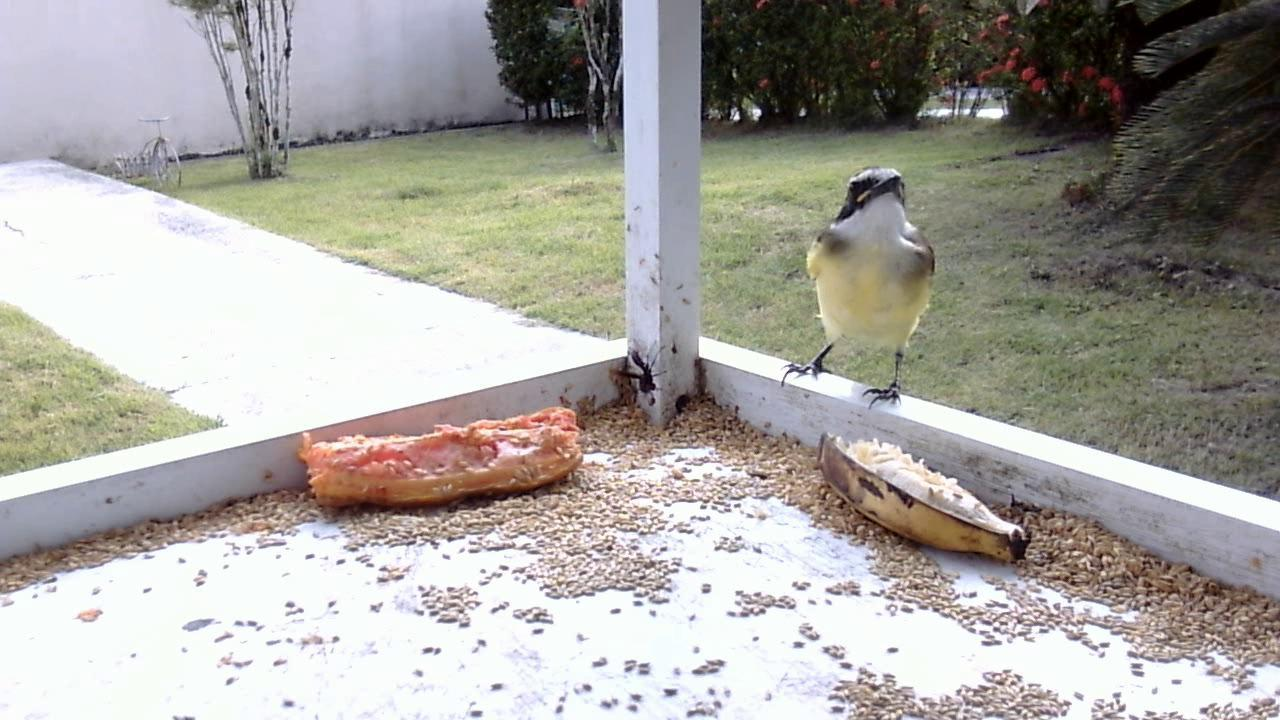bem_te_vi: (781, 167, 942, 417)
